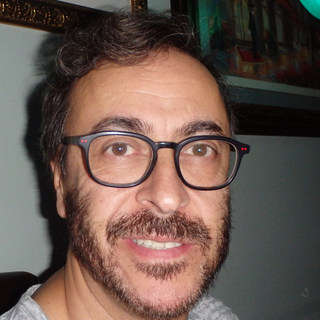eye: (97, 138, 146, 162), (179, 139, 220, 164)
